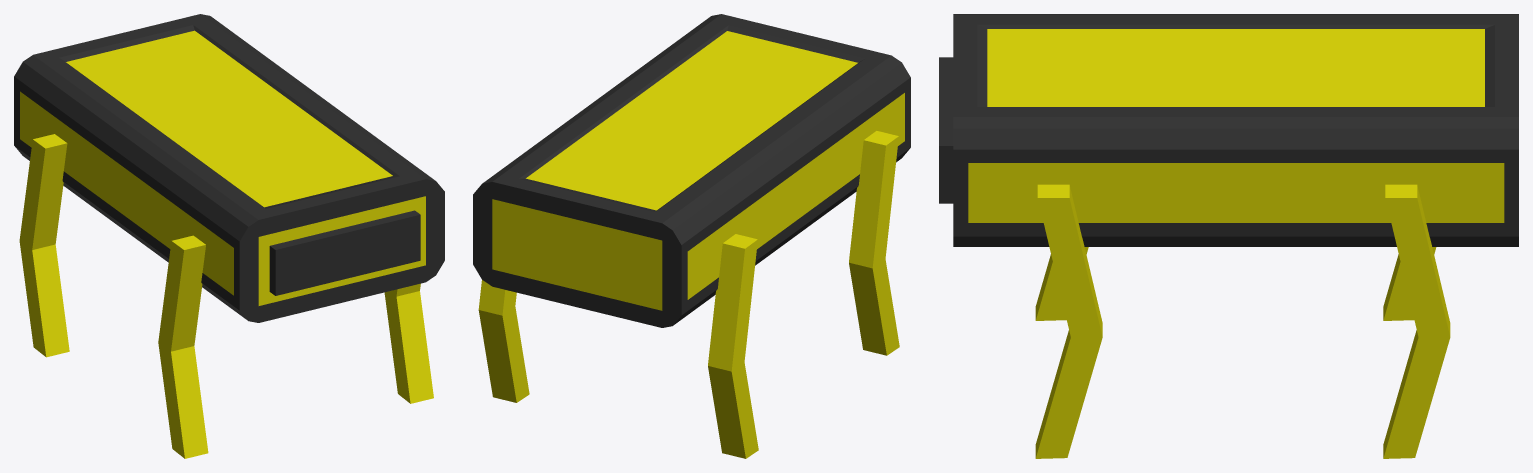
The model's file is enemy.fbx.
3 views of the same model, side by side, from view 1: azimuth 30°, elevation 25°; view 2: azimuth 150°, elevation 25°; view 3: azimuth 270°, elevation 25° (orthographic). The views are drawn at different scales.
Visible parts, largest first — view 1: Cube, Cube.004, Cube.003, Cube.001; view 2: Cube, Cube.004, Cube.003, Cube.002; view 3: Cube, Cube.001, Cube.002, Cube.003, Cube.004.
Boxes of the visible parts, box(x1,y1,x2,y2) form: Cube: box(14, 14, 444, 322); Cube.004: box(19, 134, 69, 357); Cube.003: box(158, 235, 208, 458); Cube.001: box(384, 283, 433, 403); Cube: box(473, 14, 910, 327); Cube.004: box(708, 234, 758, 458); Cube.003: box(849, 131, 899, 355); Cube.002: box(478, 280, 529, 402); Cube: box(939, 14, 1518, 246); Cube.001: box(1035, 184, 1102, 458); Cube.002: box(1383, 184, 1450, 458); Cube.003: box(1035, 247, 1088, 320); Cube.004: box(1383, 247, 1436, 320).
Size of the model in its own units: 243 by 236 by 391.
